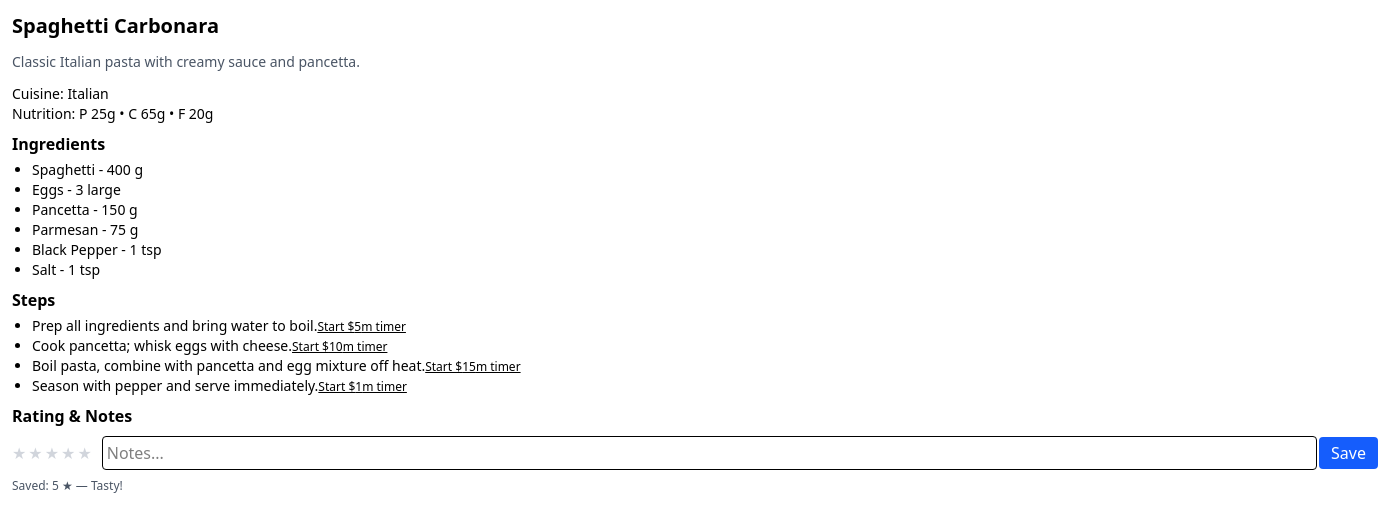
Scenario: Detail › starts a timer for a step and marks as started
The image size is (1390, 510).
Click the button "Start $5m timer".
click(362, 327)  # box [317,319,406,335]
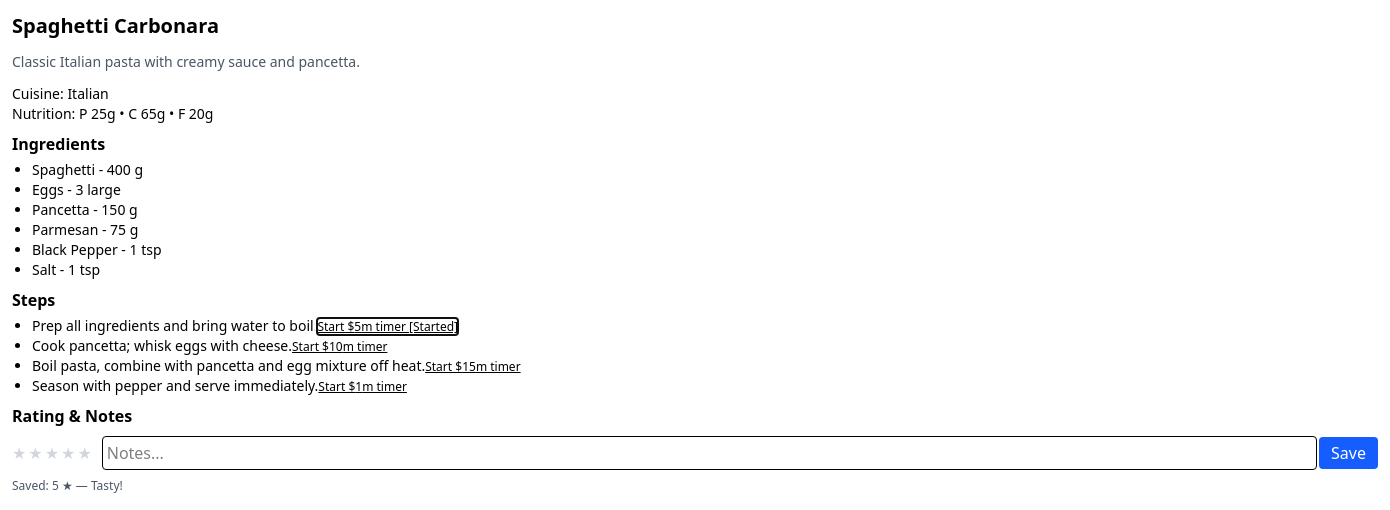
Result: the button "Start $5m timer [Started]" is shown at [317,319,458,335]
